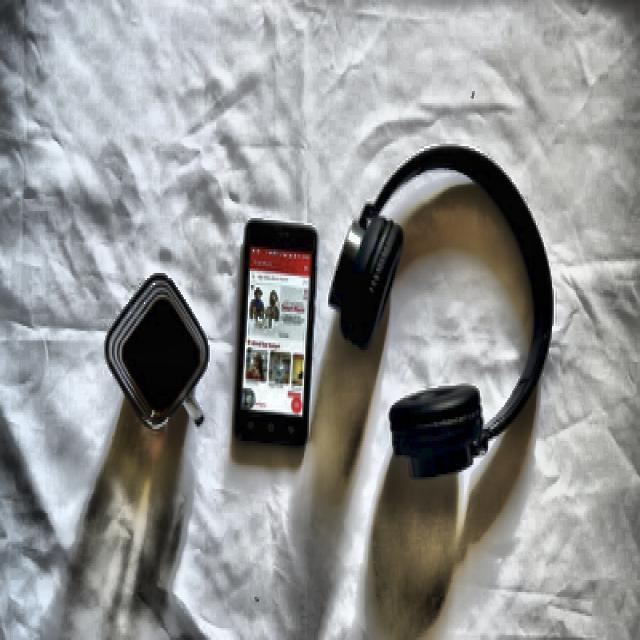Phone: (232, 218, 318, 458)
